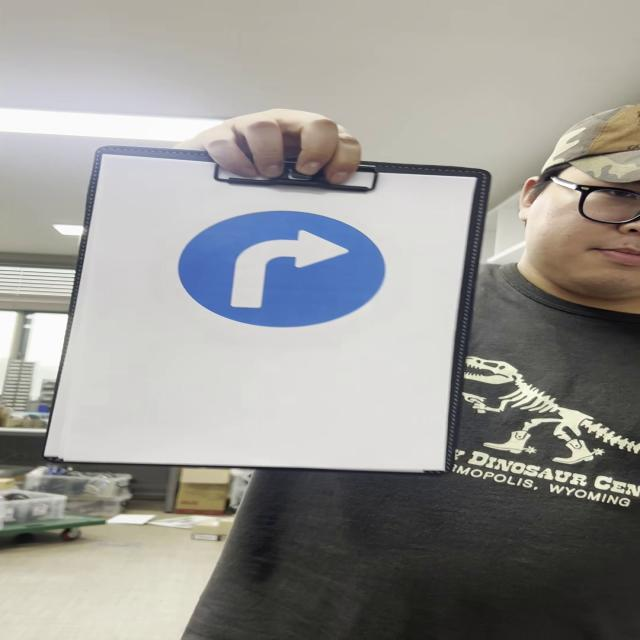right: (177, 206, 386, 329)
